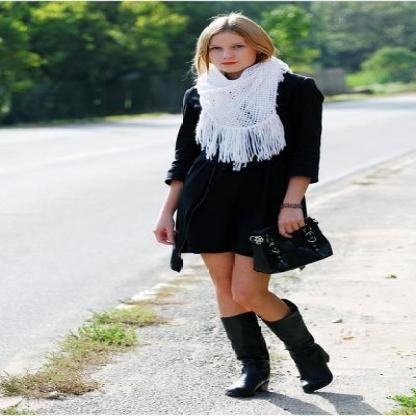bag: (252, 208, 332, 273)
dress: (166, 72, 324, 272)
shoe: (220, 299, 332, 398)
